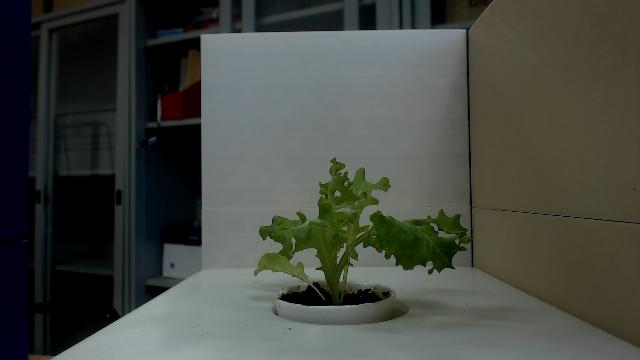Vegetative Stage: (252, 156, 474, 307)
